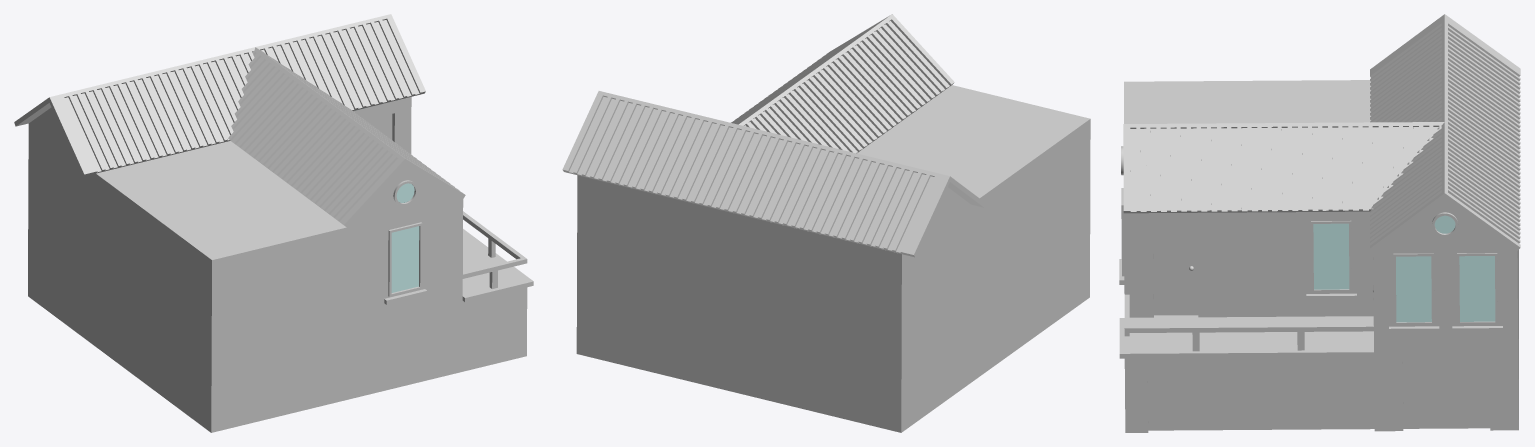
The model's file is 住宅5 英文版.fbx.
The picture shows the model from 3 angles, left to right: view 1: azimuth 30°, elevation 25°; view 2: azimuth 150°, elevation 25°; view 3: azimuth 270°, elevation 25°; orthographic projection. The views are drawn at different scales.
Visible parts, largest first — view 1: 物件_6, 物件_10, 物件_7, 物件_19; view 2: 物件_6, 物件_10; view 3: 物件_6, 物件_10, 物件_21, 物件_20, 物件_12, 物件_13, 物件_15, 物件_14, 物件_19.
Part boxes in pixels (x1,y1,x2,y2): 物件_6: (28, 97, 533, 432); 物件_10: (14, 14, 465, 227); 物件_7: (391, 226, 419, 292); 物件_19: (462, 211, 527, 278); 物件_6: (576, 85, 1090, 432); 物件_10: (562, 14, 985, 257); 物件_6: (1119, 80, 1518, 432); 物件_10: (1123, 14, 1520, 251); 物件_21: (1147, 361, 1374, 430); 物件_20: (1403, 361, 1490, 428); 物件_12: (1153, 226, 1198, 315); 物件_13: (1313, 223, 1349, 289); 物件_15: (1396, 256, 1431, 322); 物件_14: (1459, 256, 1495, 321); 物件_19: (1124, 294, 1373, 332).
Bounding box in the file's own units: 16.51 × 15.65 × 10.63.
